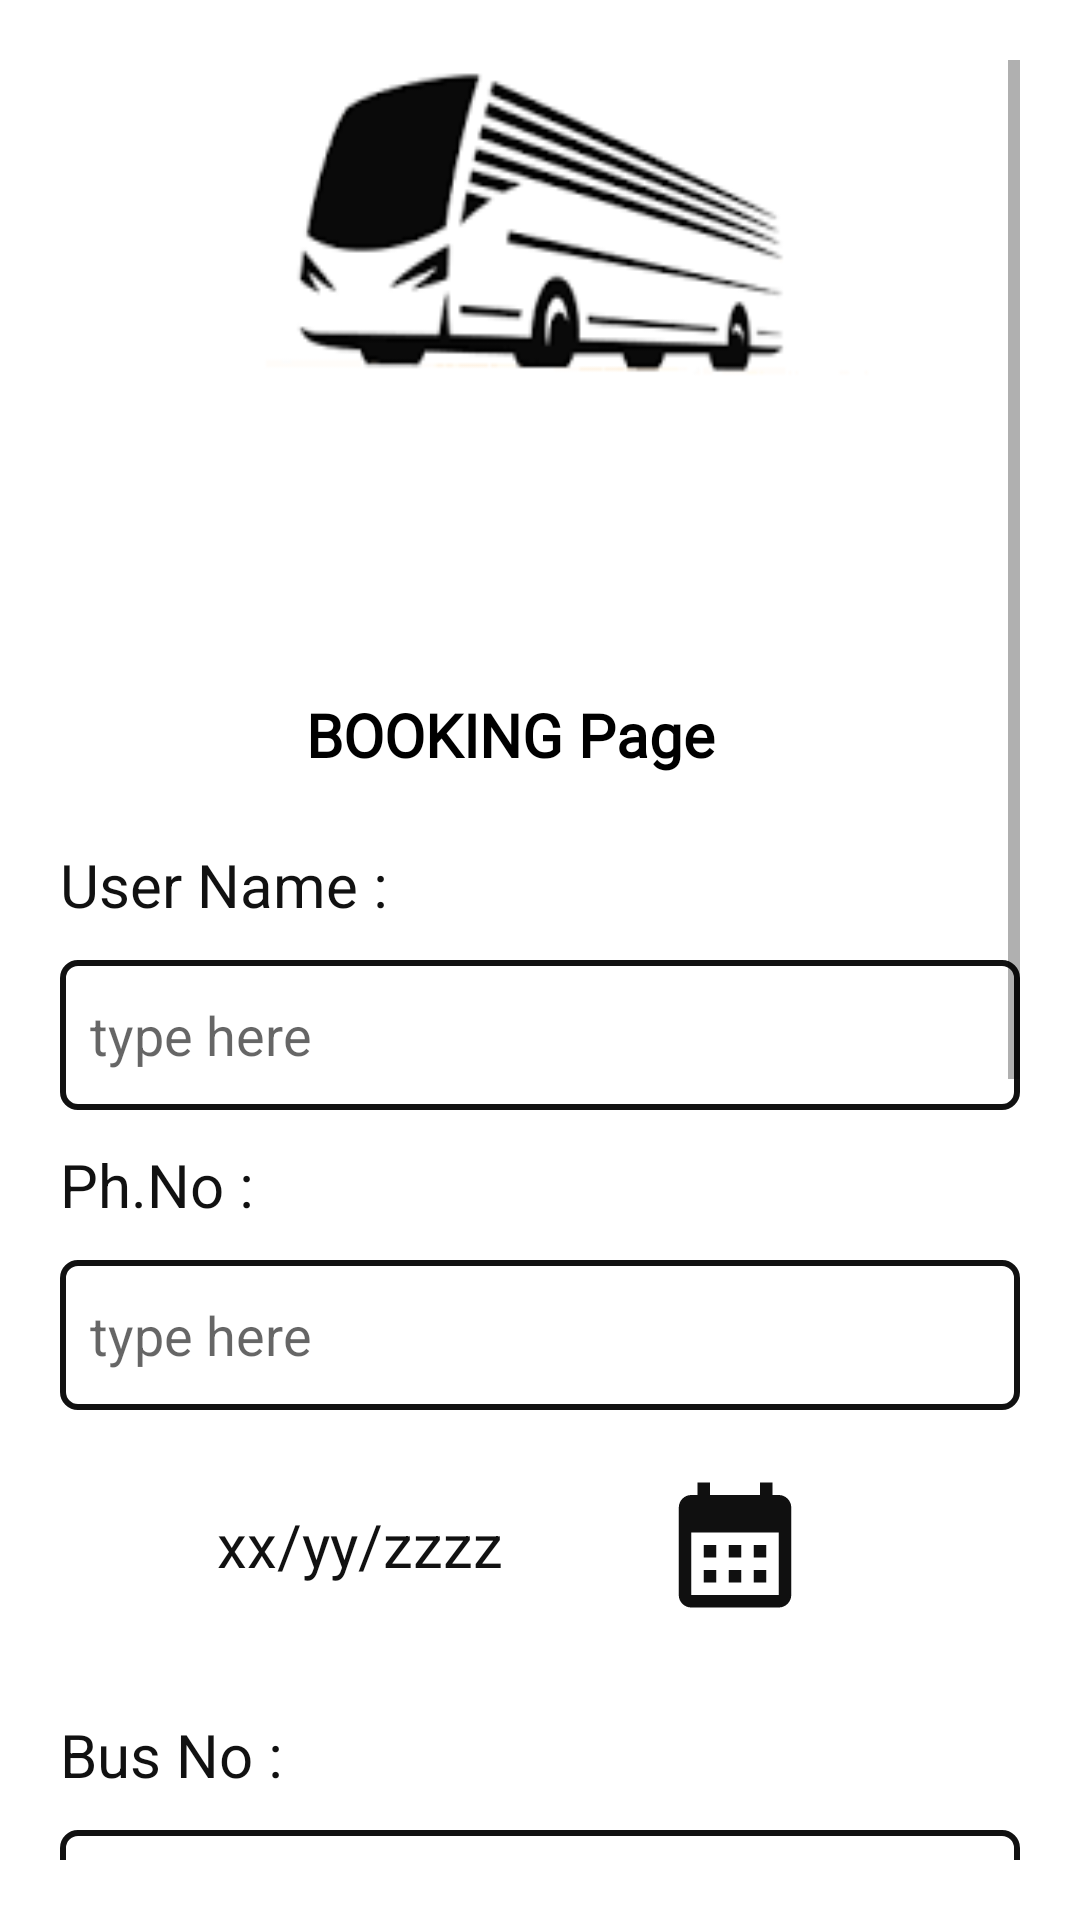

Icon bounding boxes for this 1080 × 1920 phone screenshot, format (x1, y1, x2, y2):
calender: (678, 1482, 792, 1608)
